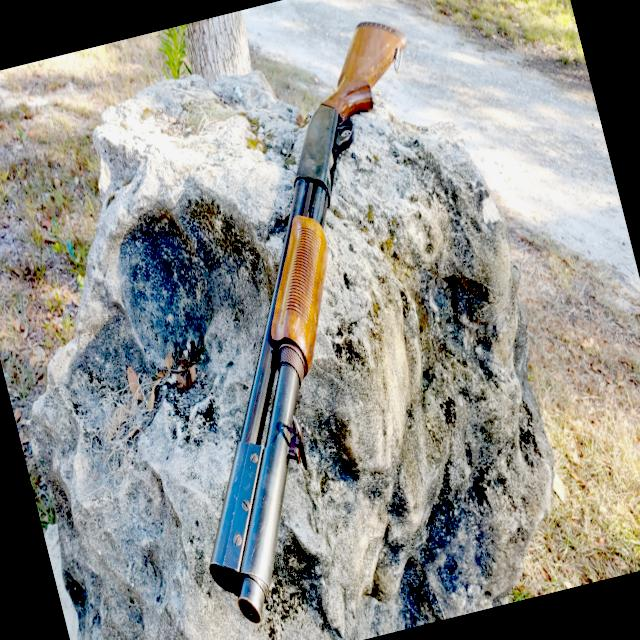shotgun: (85, 5, 542, 640)
